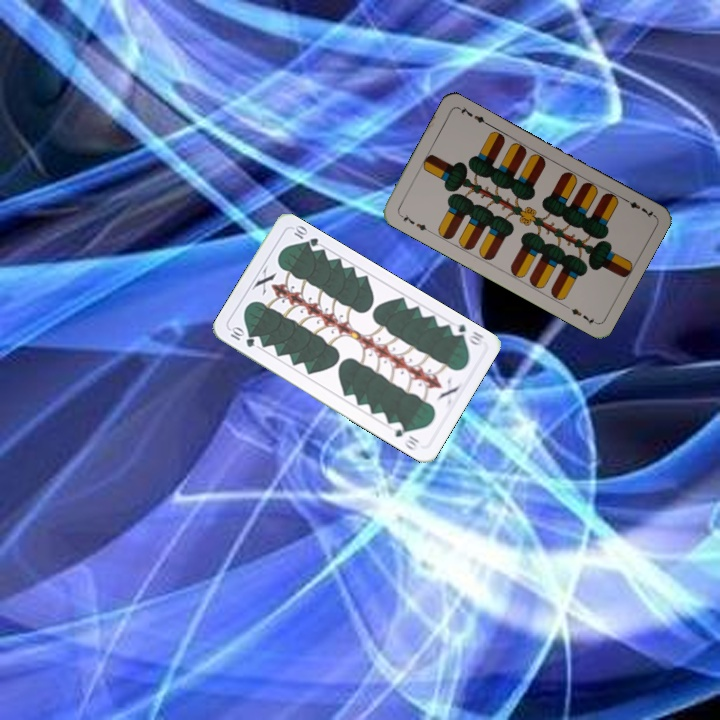E7: (619, 194, 657, 221), (395, 210, 433, 235)
G10: (446, 319, 486, 348), (226, 323, 257, 350)
